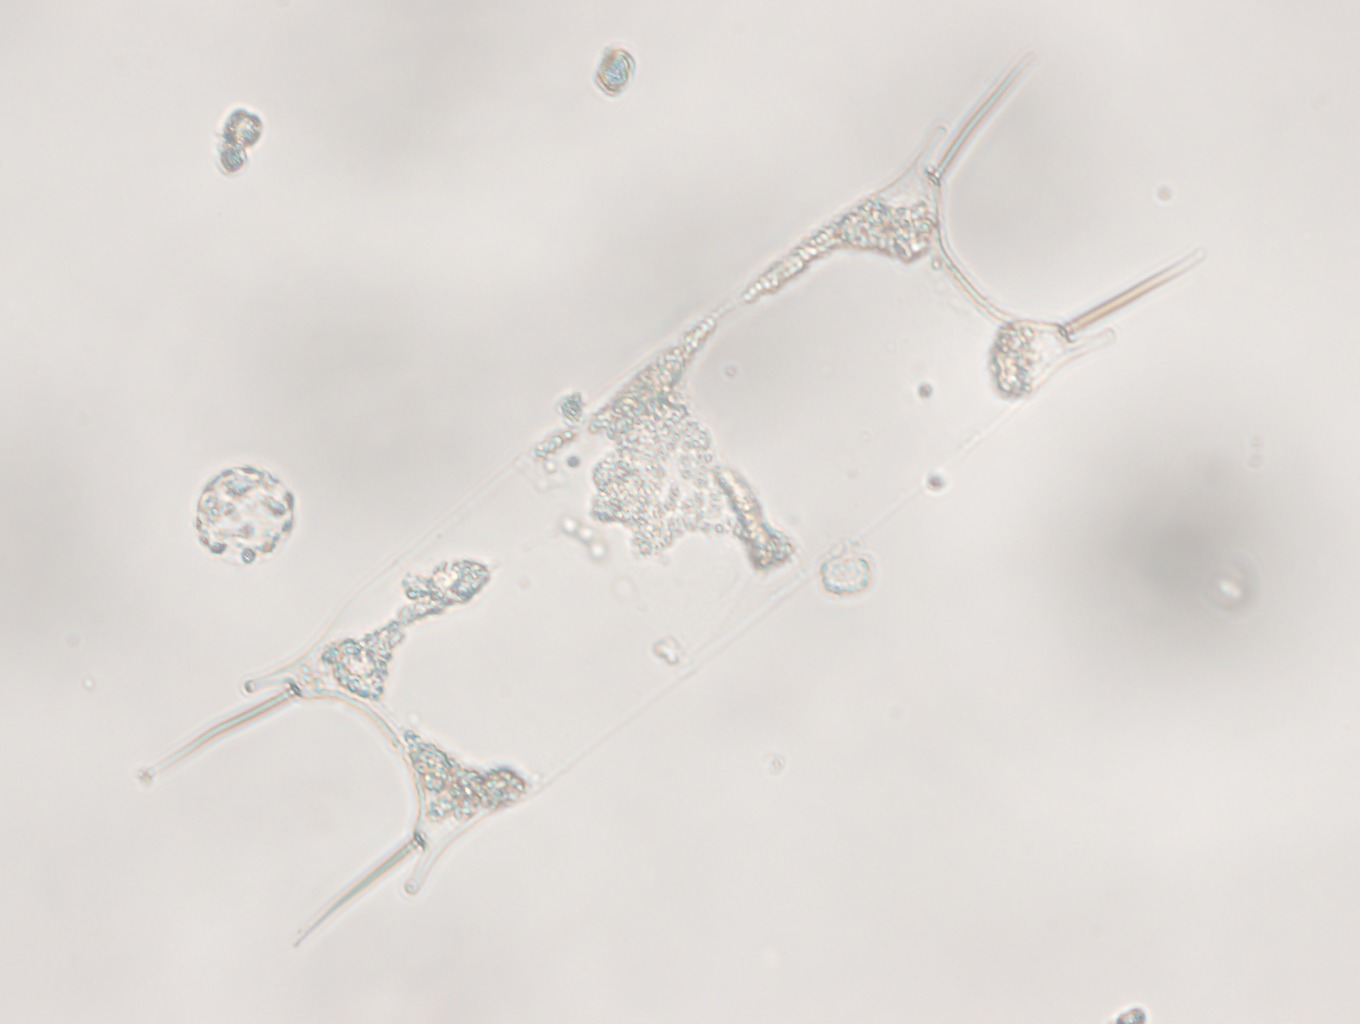biddulphia: (135, 52, 1205, 951)
